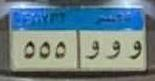5: (53, 41, 68, 62), (22, 39, 36, 61), (39, 40, 51, 61)
waw: (125, 39, 143, 64), (104, 38, 121, 63), (84, 39, 101, 62)
